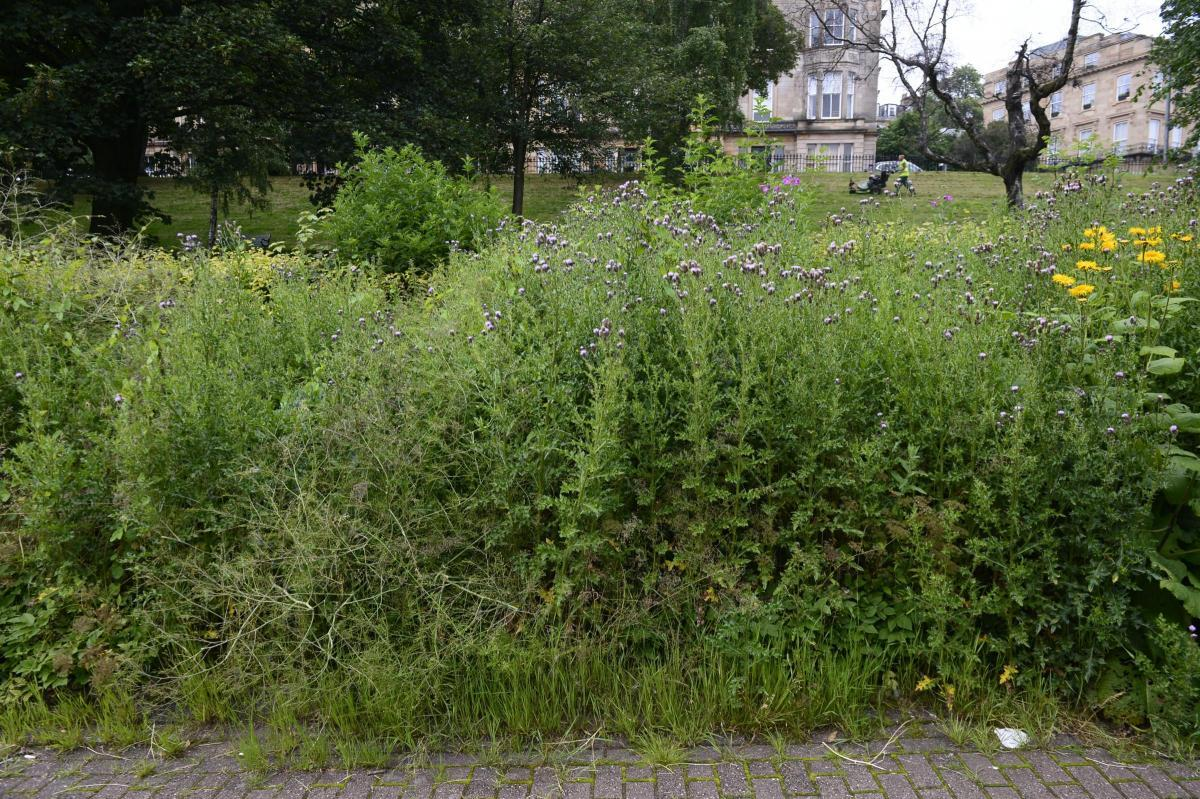overgrown grass: (0, 157, 1199, 769), (297, 133, 504, 271)
